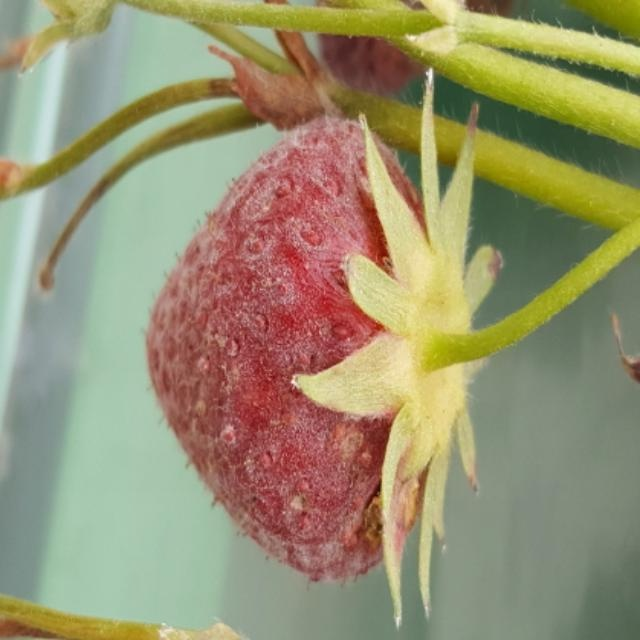Powdery Mildew Fruit: (140, 113, 452, 585)
